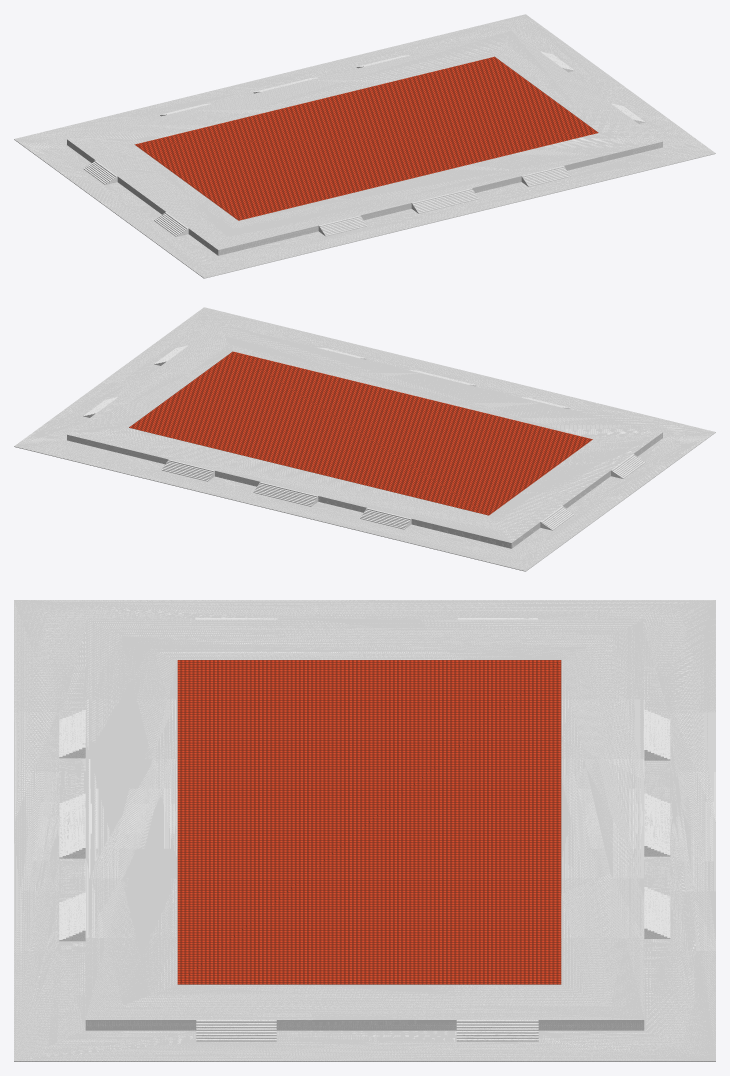
Rendered from pedestal.dae.
3 views of the same model, one above another, from view 1: azimuth 30°, elevation 25°; view 2: azimuth 150°, elevation 25°; view 3: azimuth 270°, elevation 25° (orthographic). The views are drawn at different scales.
Visible parts, largest first — view 1: SketchUp (×3), steps_small (×5); view 2: SketchUp (×3), steps_small (×5); view 3: SketchUp (×3), steps_small (×8).
Boxes of the visible parts, x1,y1,x2,y2 form: SketchUp (×3): (14, 14, 715, 278); steps_small (×5): (83, 160, 570, 236); SketchUp (×3): (14, 307, 715, 571); steps_small (×5): (162, 454, 645, 530); SketchUp (×3): (14, 600, 715, 1061); steps_small (×8): (59, 709, 670, 1041).
Size of the model in its own units: 2134 by 1373 by 25.99.
Materials: 3 (1 with a texture image).
